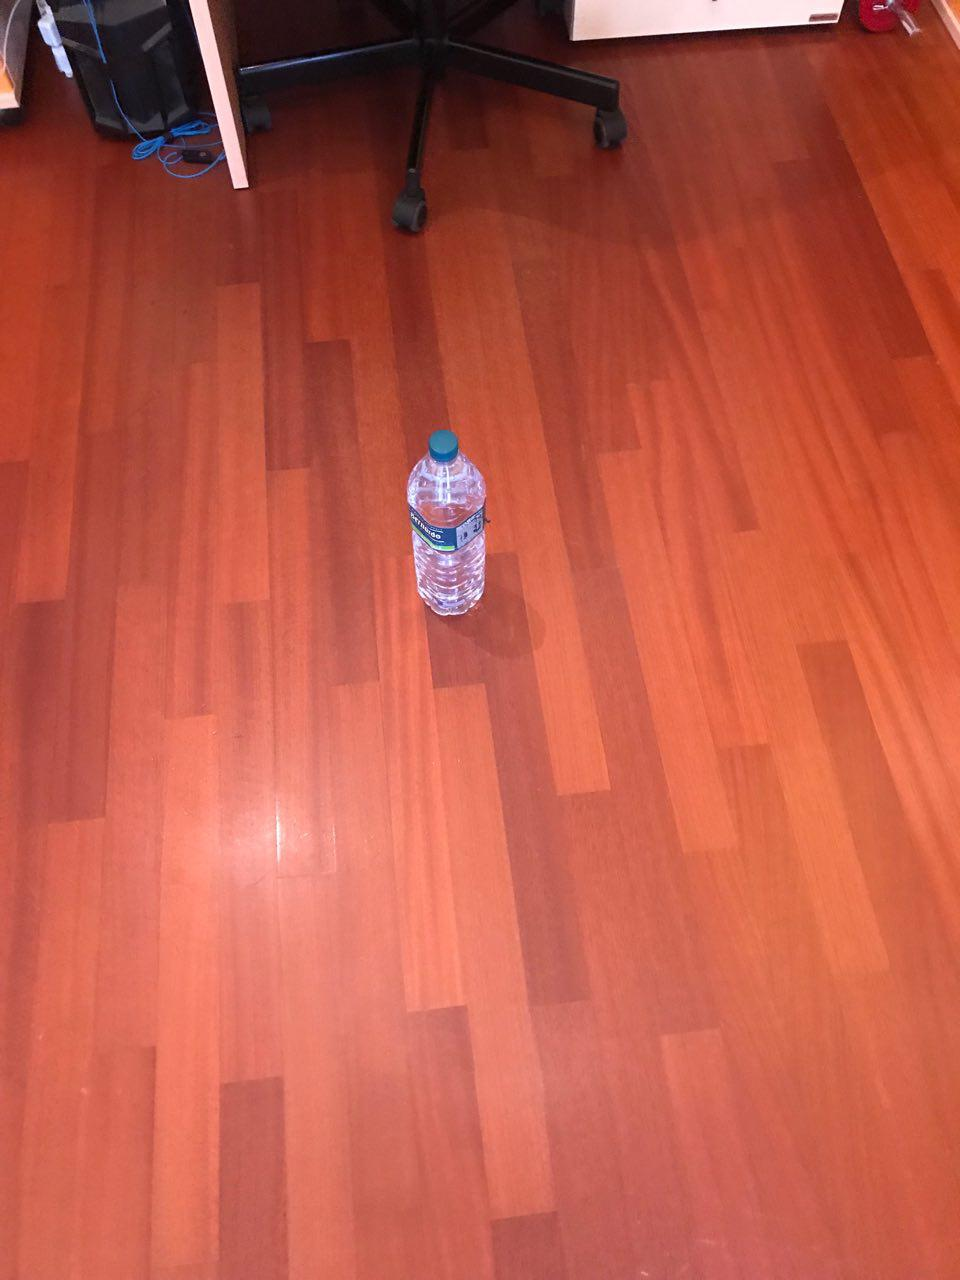san_bernardo: (407, 429, 488, 617)
